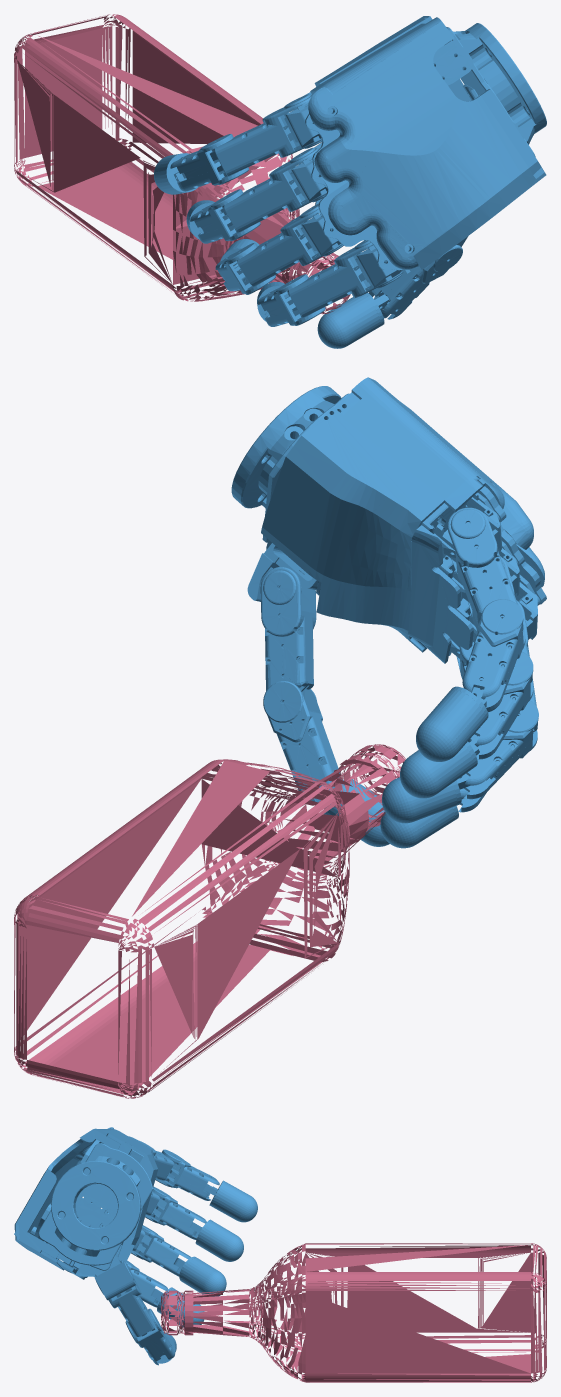
3 renders of one model, top to bottom at view 1: azimuth 30°, elevation 25°; view 2: azimuth 150°, elevation 25°; view 3: azimuth 270°, elevation 25°, orthographic. The views are drawn at different scales.
Parts seen in each view (by area): view 1: vis_all_hunan_new_3; view 2: vis_all_hunan_new_3; view 3: vis_all_hunan_new_3.
Boxes of the visible parts, x1,y1,x2,y2 form: vis_all_hunan_new_3: (14,14,546,348); vis_all_hunan_new_3: (14,377,546,1098); vis_all_hunan_new_3: (14,1127,546,1382).
Size of the model in its own units: 0.1673 by 0.2024 by 0.3739.
